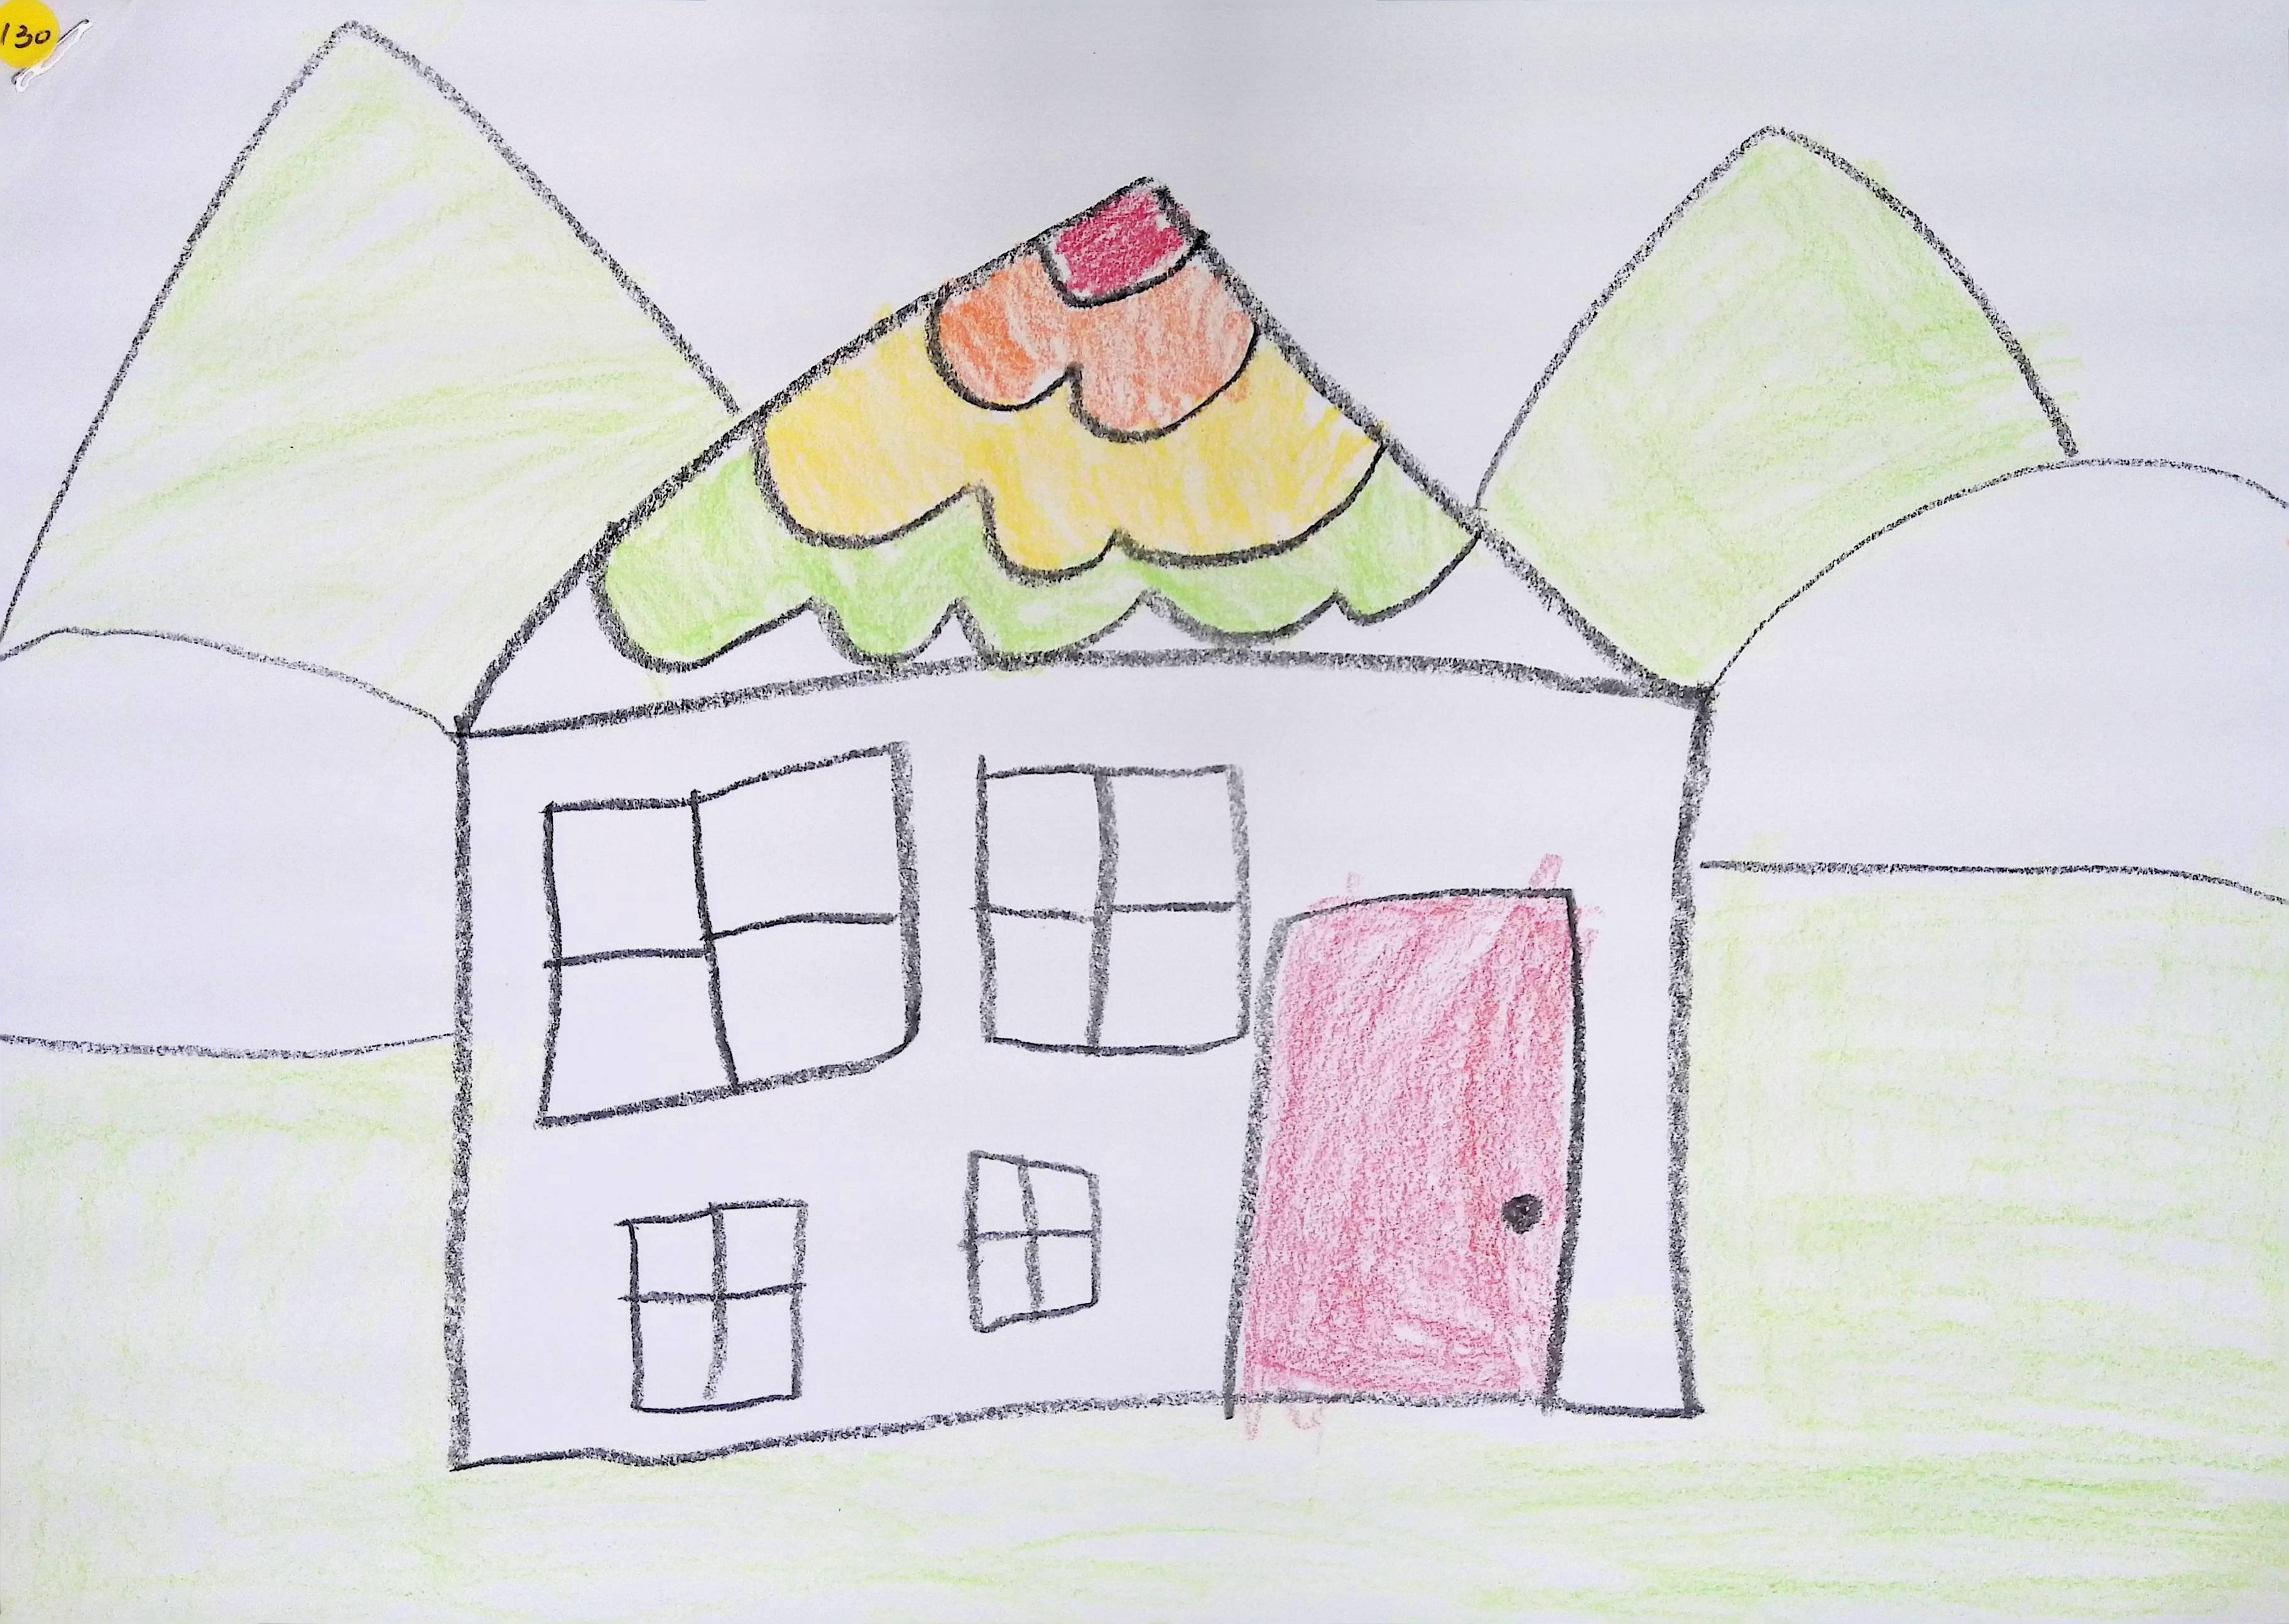door: (1241, 889, 1580, 1399)
house: (445, 179, 1704, 1466)
roof: (480, 183, 1614, 724)
wall: (448, 650, 1693, 1464)
window: (538, 743, 919, 1125), (976, 758, 1248, 1055), (619, 1202, 805, 1415), (963, 1153, 1101, 1334)
